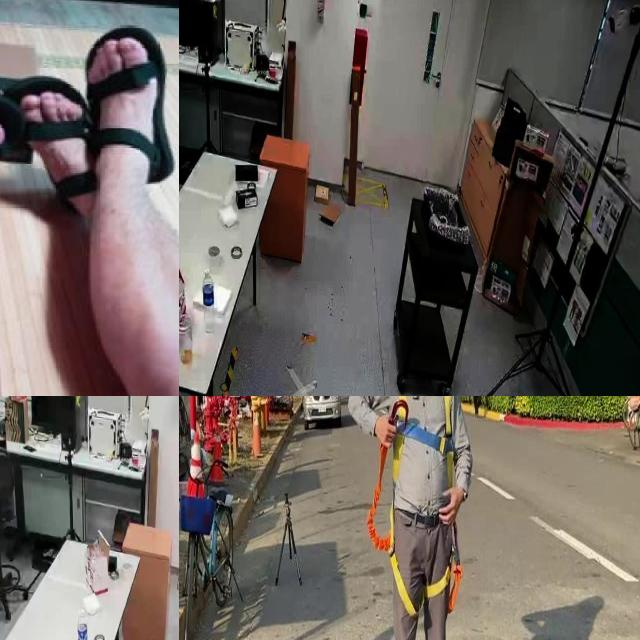Harness: (367, 446, 463, 638), (390, 396, 455, 486)
Sandals: (84, 25, 176, 189)
